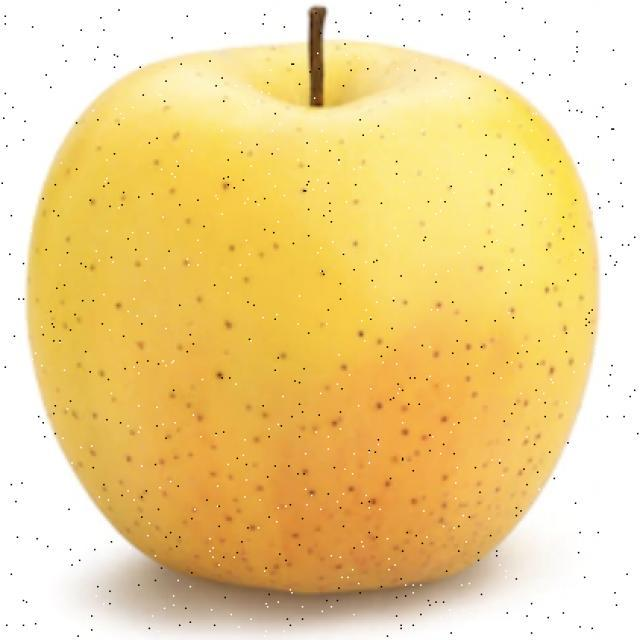Fresh Apple: (25, 34, 598, 594)
